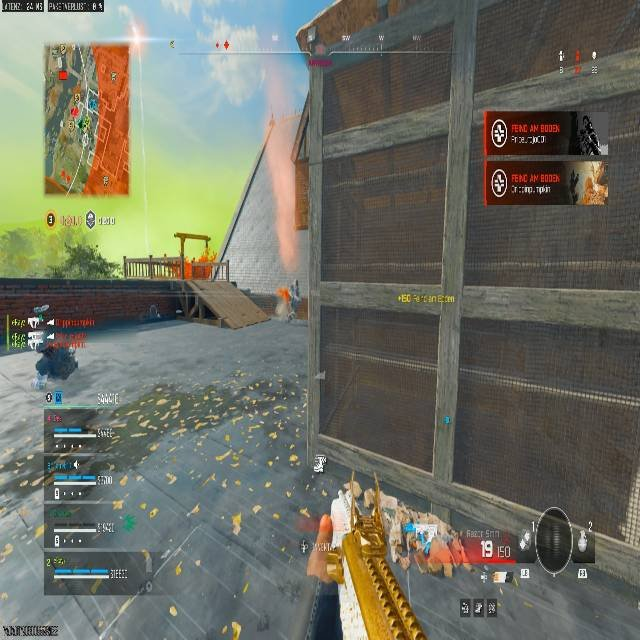player: (32, 337, 78, 389), (282, 278, 305, 324)
